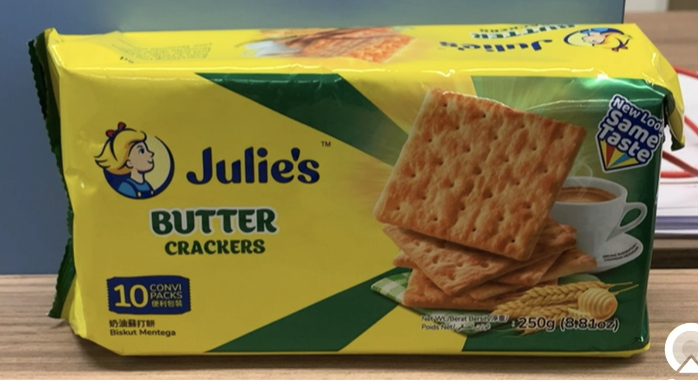crackers_150g: (80, 84, 648, 344)
